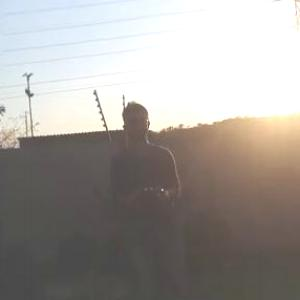follow: (108, 98, 188, 299)
